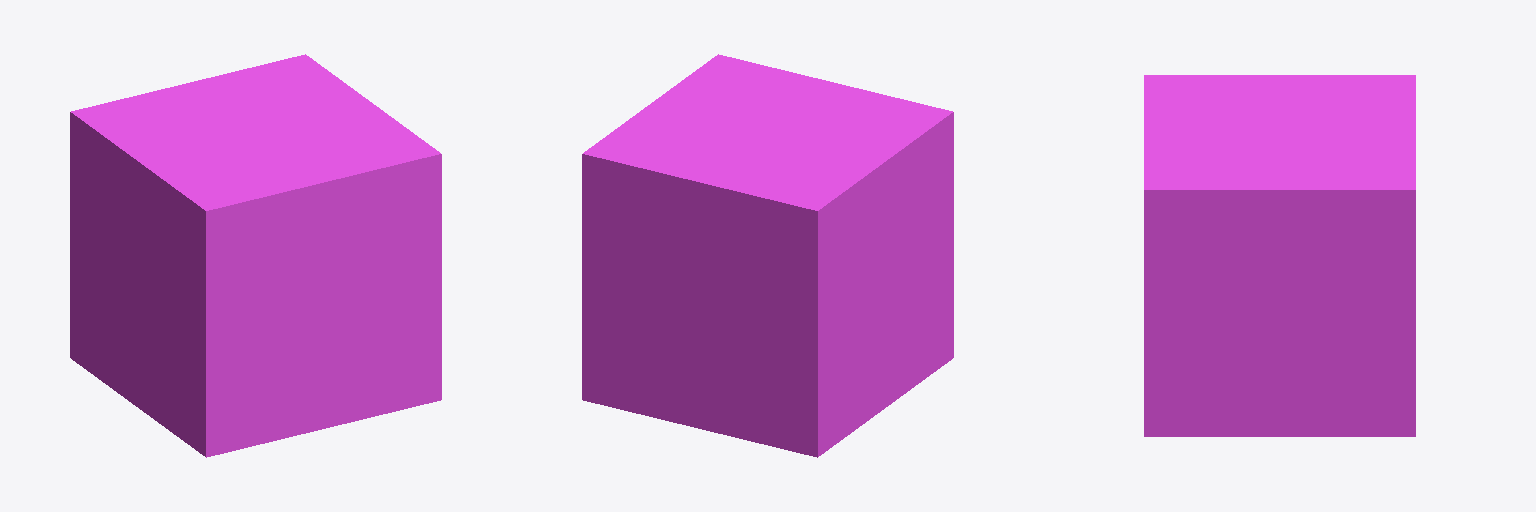
The picture shows the model from 3 angles: view 1: azimuth 30°, elevation 25°; view 2: azimuth 150°, elevation 25°; view 3: azimuth 270°, elevation 25°; orthographic projection.
Parts seen in each view (by area): view 1: Cube; view 2: Cube; view 3: Cube.
Boxes of the visible parts, <box> form: Cube: <box>70,54,441,457</box>; Cube: <box>582,54,953,457</box>; Cube: <box>1144,75,1415,436</box>.
Size of the model in its own units: 2 by 2 by 2.
1 materials, 1 textured.